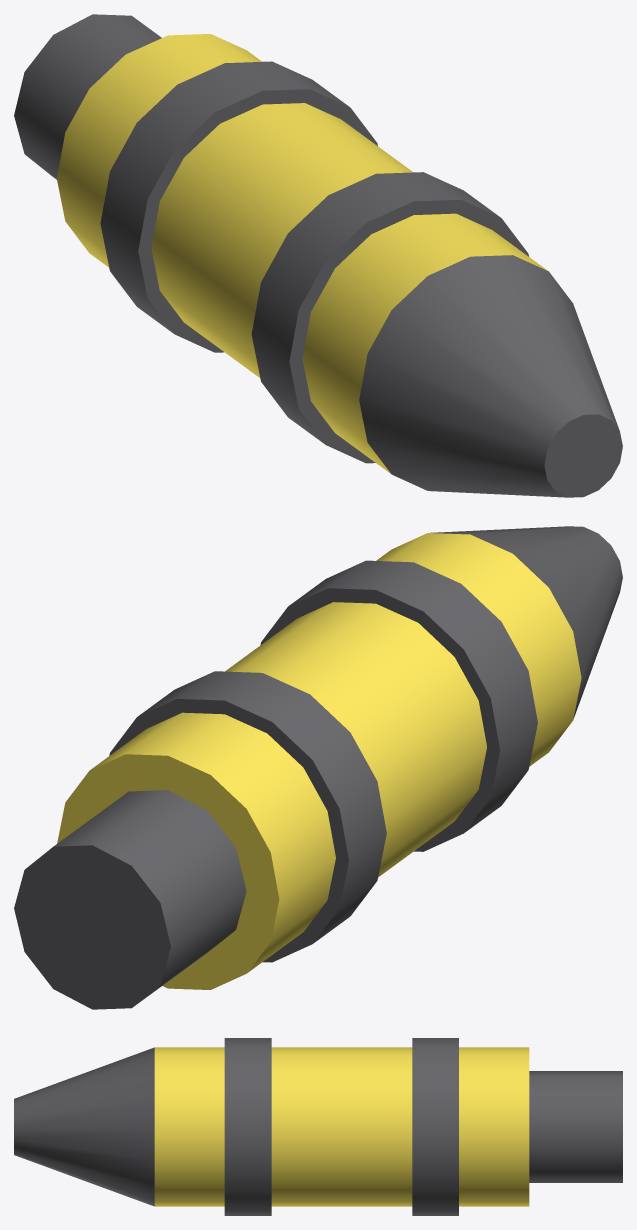
The model's file is Turbo Nozzle.fbx.
The picture shows the model from 3 angles, top to bottom: view 1: azimuth 30°, elevation 25°; view 2: azimuth 150°, elevation 25°; view 3: azimuth 270°, elevation 25°; orthographic projection. The views are drawn at different scales.
Visible parts, largest first — view 1: Turbo Nozzle; view 2: Turbo Nozzle; view 3: Turbo Nozzle.
Part boxes in pixels (bbox=[...]): Turbo Nozzle: bbox=[14, 14, 622, 497]; Turbo Nozzle: bbox=[14, 526, 622, 1009]; Turbo Nozzle: bbox=[14, 1038, 622, 1215].
Bounding box in the file's own units: 0.038 × 0.038 × 0.13.
